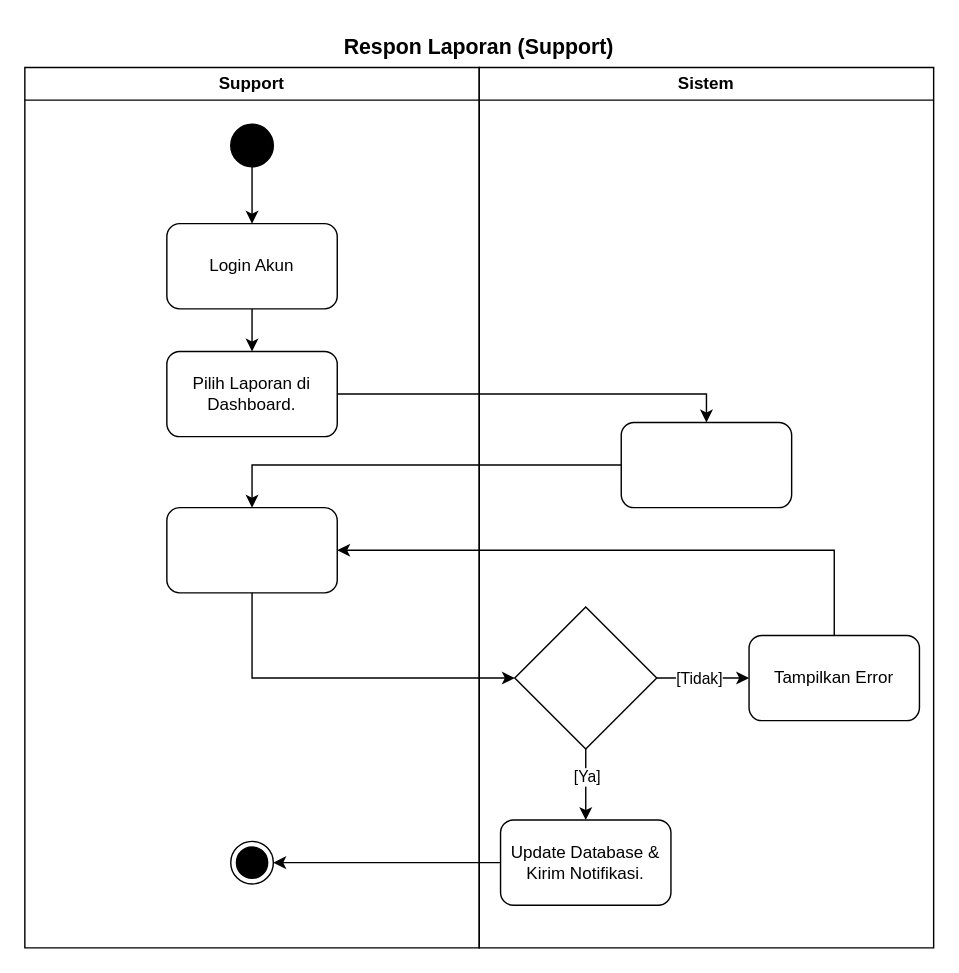
Some shapes in this 959 by 973 pixel diagram are drawn without their labels. The shapes that lost their labels are listed below. From the top down, each one's centre as x and y in pixels, then its label:
pixel 706 464: Tampilkan Halaman Detail.
pixel 251 549: Input Jawaban & Pilih Status "DONE".
pixel 585 677: Jawaban Terisi?
